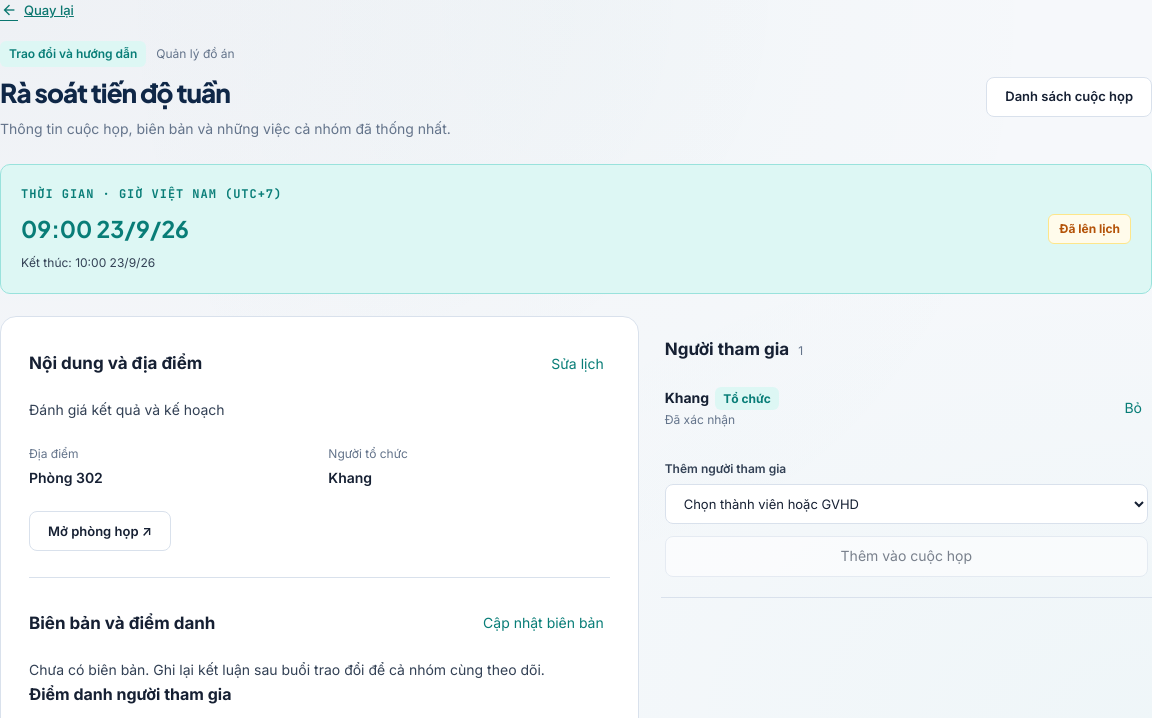
Test: Meetings end-user workflow › adds a candidate and removes by user ID after explicit confirmation
Step 1. Select "GVHD · Giảng viên hướng dẫn" in the dropdown labelled "Thêm người tham gia" → (906, 504), box [665, 484, 1148, 524]
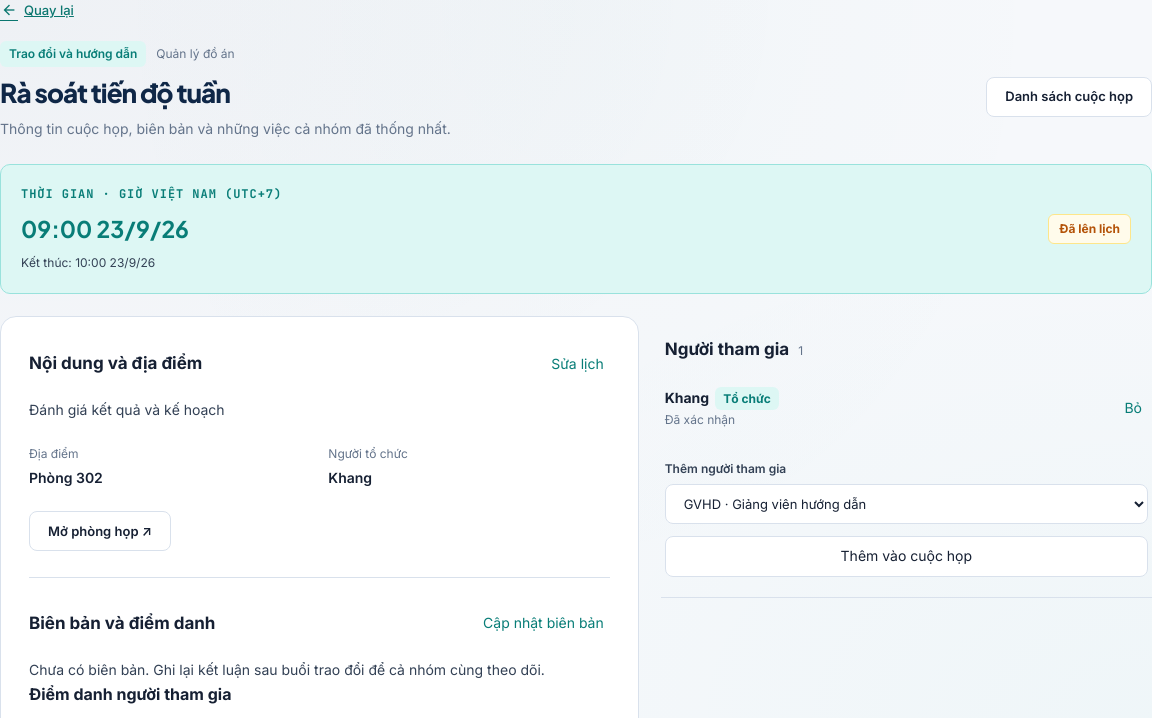
Step 2. Click the button "Thêm vào cuộc họp" → (906, 556), box [665, 536, 1148, 577]
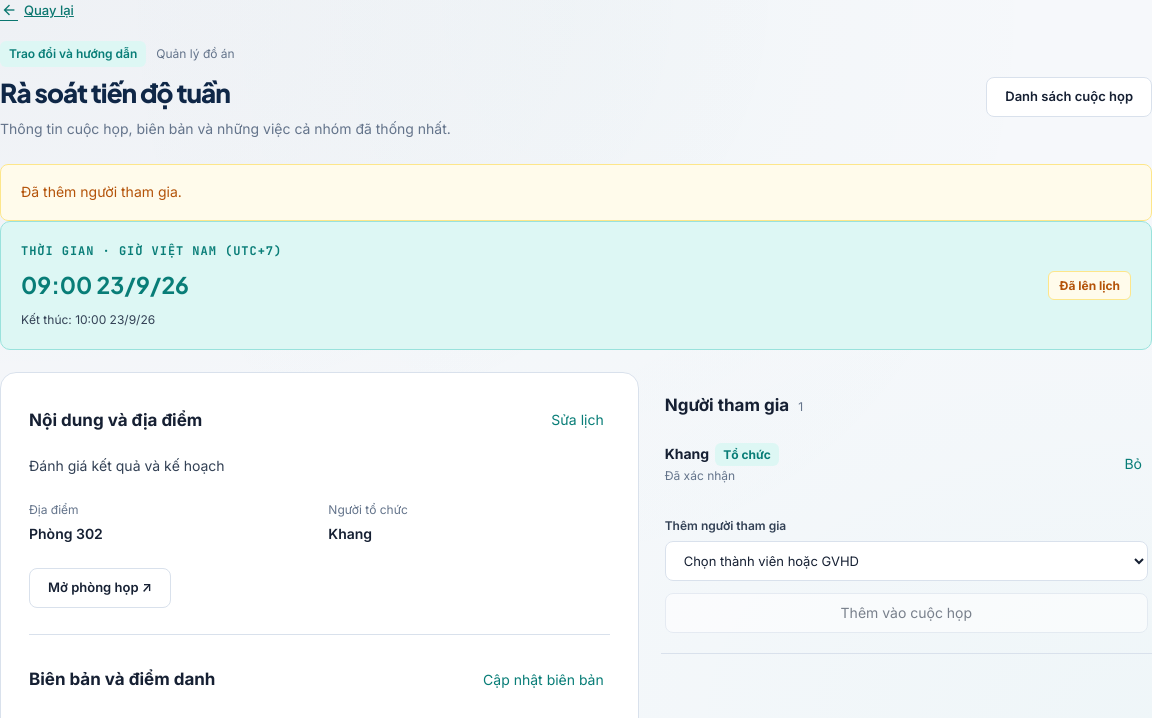
Result: the text "Đã thêm người tham gia." is shown at [0, 164, 1151, 221]
Step 3. Click the button with aria-label "Bỏ Khang khỏi cuộc họp" → (1133, 464), box [1118, 445, 1148, 484]
(page scrolled)
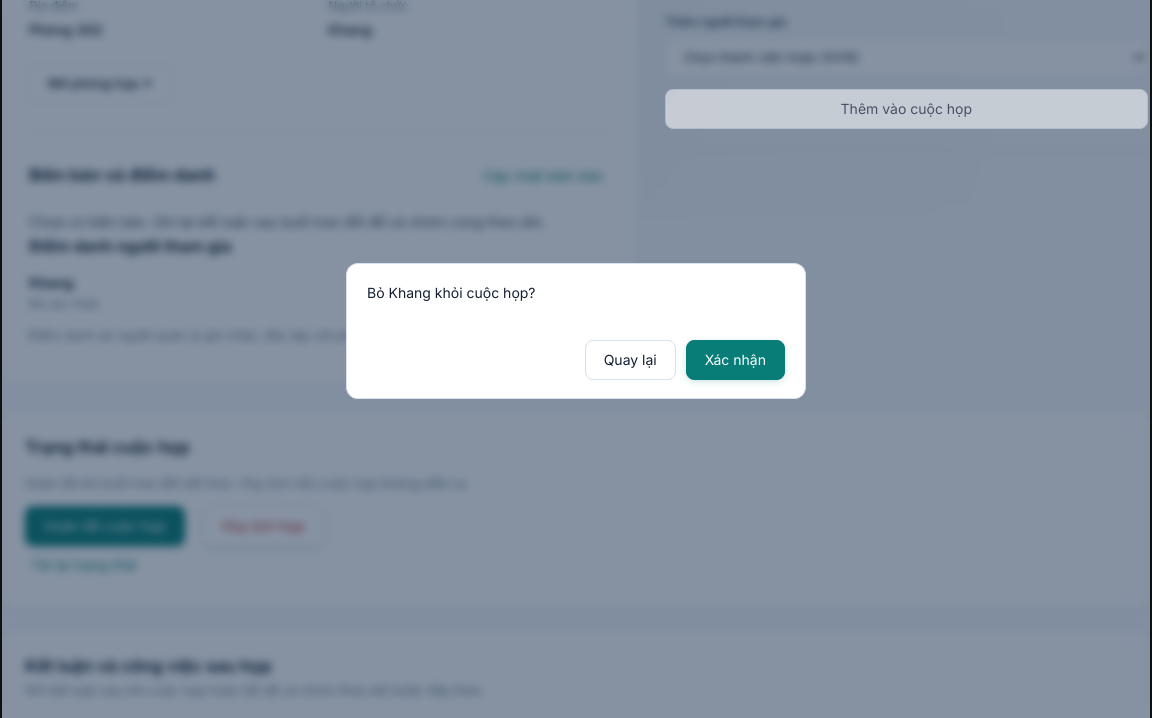
Step 4. Click the button "Xác nhận" → (735, 360), box [686, 340, 785, 380]
(page scrolled)
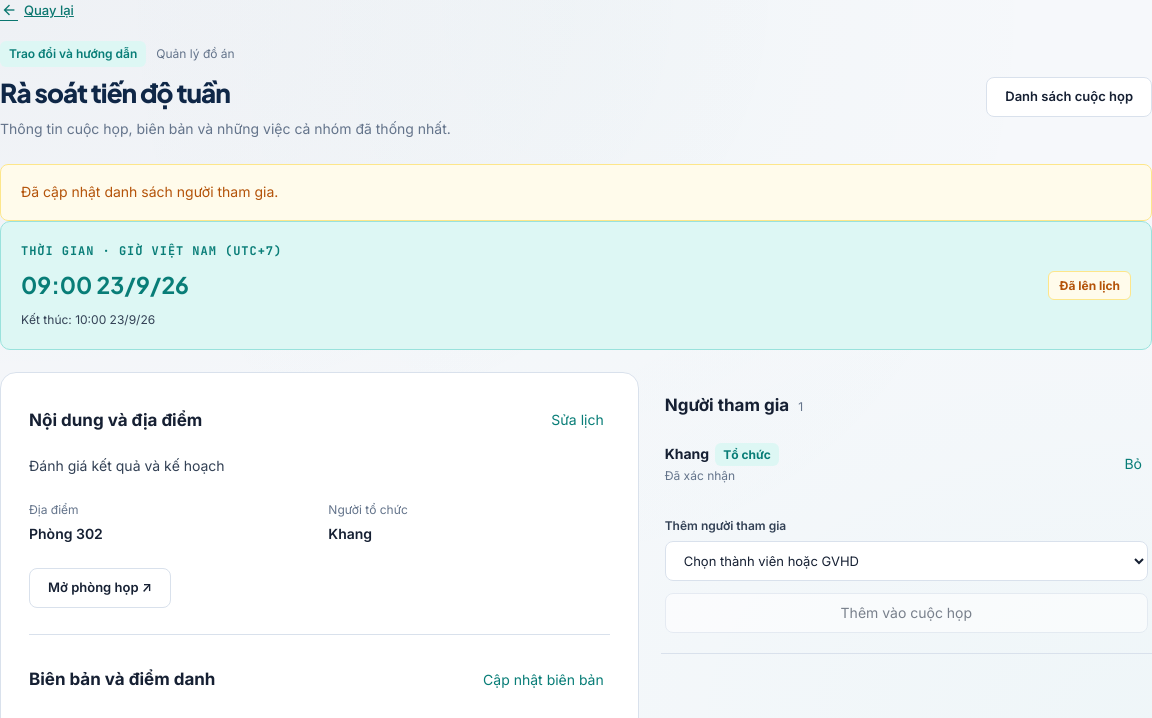
Result: the text "Đã cập nhật danh sách người tham gia." is shown at [0, 164, 1151, 221]
